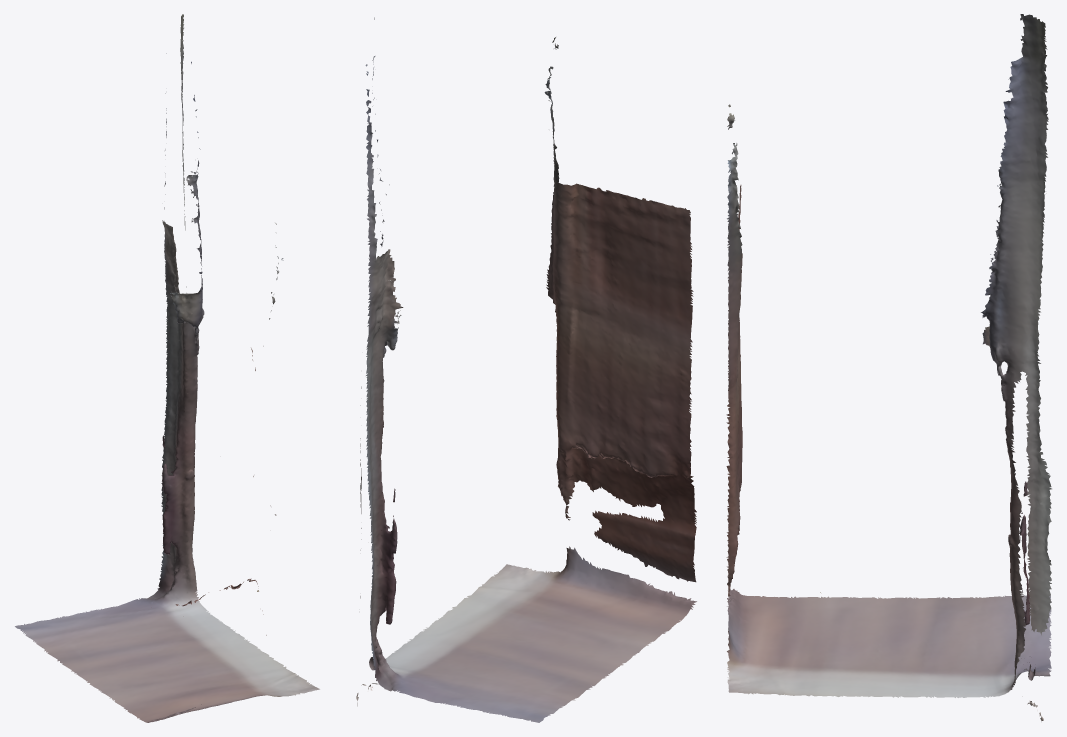
File: apartment-full-51-91d1702e1707.glb
3 renders of one model, left to right at view 1: azimuth 30°, elevation 25°; view 2: azimuth 150°, elevation 25°; view 3: azimuth 270°, elevation 25°, orthographic. The views are drawn at different scales.
Bounding box in the file's own units: 0.645 × 2.2 × 0.924.
